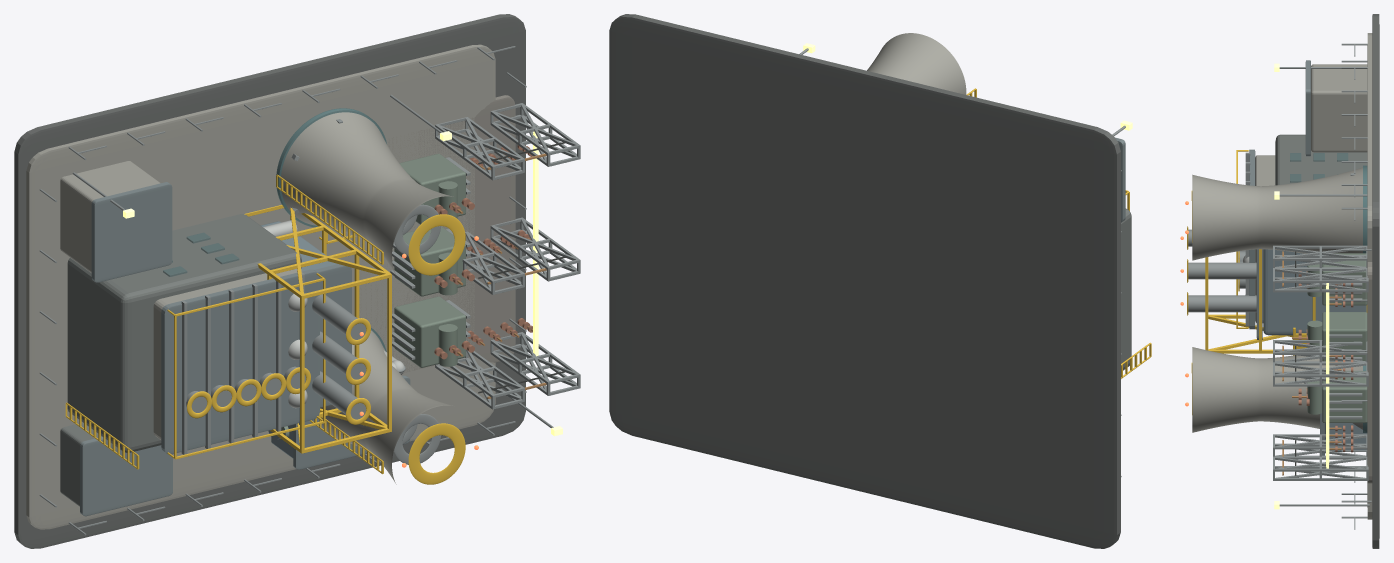
Rendered from b-02-power-station-lod1.glb.
3 views of the same model, side by side, from view 1: azimuth 30°, elevation 25°; view 2: azimuth 150°, elevation 25°; view 3: azimuth 270°, elevation 25° (orthographic). The views are drawn at different scales.
Visible parts, largest first — view 1: inner_concrete_pad, foundation, turbine_hall, turbine_roof, cooling_tower_north, switchyard_pad, control_roof, service_roof, cooling_tower_south, control_block, transformer_1, turbine_hall_upper (+22 smaller); view 2: foundation, cooling_tower_north, turbine_hall; view 3: cooling_tower_north, cooling_tower_south, control_block, foundation, boiler_house, turbine_hall, inner_concrete_pad, transformer_2, transformer_1, switchyard_pad, boiler_stack_0, boiler_stack_1 (+38 smaller).
Part boxes in pixels (x1,y1,x2,y2): inner_concrete_pad: [26, 44, 495, 529]; foundation: [14, 14, 525, 548]; turbine_hall: [67, 214, 301, 452]; turbine_roof: [161, 269, 319, 454]; cooling_tower_north: [277, 109, 453, 273]; switchyard_pad: [359, 95, 515, 373]; control_roof: [91, 182, 172, 282]; service_roof: [80, 436, 172, 516]; cooling_tower_south: [320, 329, 452, 484]; control_block: [60, 161, 160, 272]; transformer_1: [394, 296, 465, 367]; turbine_hall_upper: [153, 268, 302, 439]; foundation: [609, 14, 1120, 548]; cooling_tower_north: [867, 33, 966, 94]; turbine_hall: [1121, 208, 1131, 370]; cooling_tower_north: [1192, 166, 1366, 260]; cooling_tower_south: [1192, 347, 1366, 432]; control_block: [1311, 64, 1367, 152]; foundation: [1372, 14, 1379, 548]; boiler_house: [1263, 249, 1366, 335]; turbine_hall: [1275, 134, 1367, 185]; inner_concrete_pad: [1367, 33, 1372, 519]; transformer_2: [1322, 312, 1367, 361]; transformer_1: [1322, 371, 1367, 422]; switchyard_pad: [1367, 262, 1372, 483]; boiler_stack_0: [1188, 295, 1256, 312]; boiler_stack_1: [1188, 262, 1256, 279].
Size of what is drawn, in the model's own units: 16 by 12.6 by 6.6.
